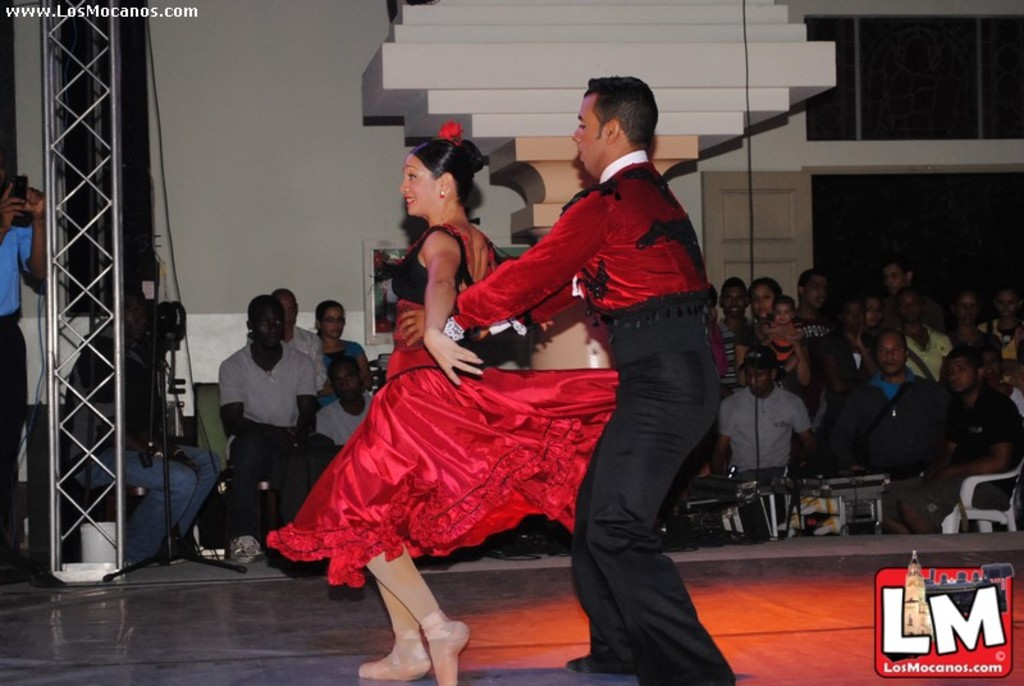Person: (0, 74, 1023, 685), (398, 74, 736, 686), (268, 135, 555, 686)
